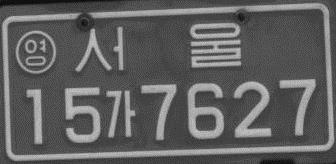1: (21, 85, 47, 147)
2: (233, 80, 273, 139)
5: (62, 85, 103, 145)
6: (186, 82, 225, 140)
7: (275, 76, 319, 138), (139, 82, 178, 143)
가: (103, 89, 136, 140)
서울_D: (75, 19, 243, 75)
영: (15, 29, 57, 76)
